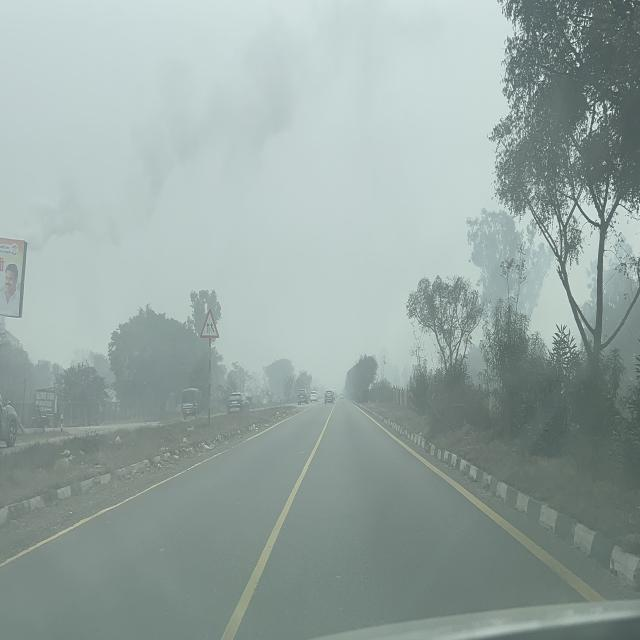WARNING: (200, 308, 220, 339)
